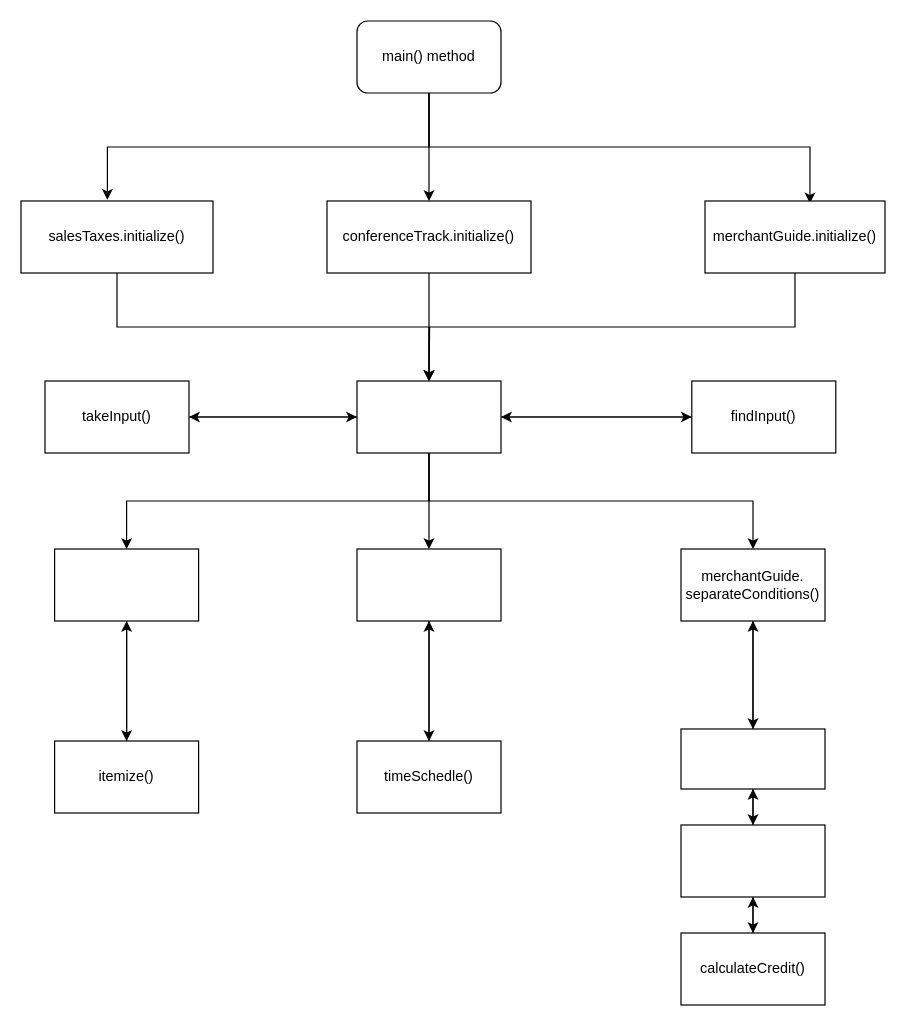
Some shapes in this 906 by 1026 pixel diagram are drawn without their labels. The box of each missing label's shape, as (x1, y1, x2, y2) in pixels:
conferenceTrack. progarmSchedule(): (356, 548, 501, 621)
inputList.initialize(): (356, 380, 501, 453)
salesTaxes.taxes(): (53, 548, 199, 621)
searchValue(): (680, 824, 825, 897)
valueAssassin(): (680, 728, 825, 789)
